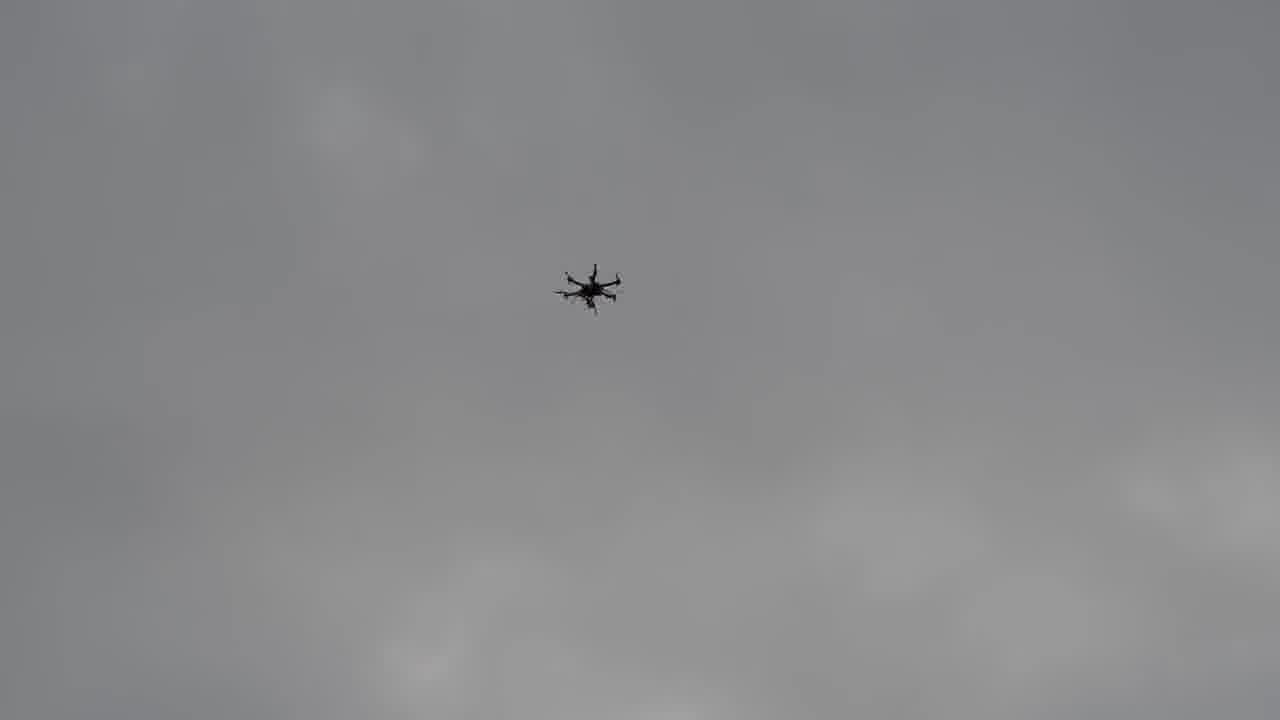drone: (544, 248, 632, 323)
